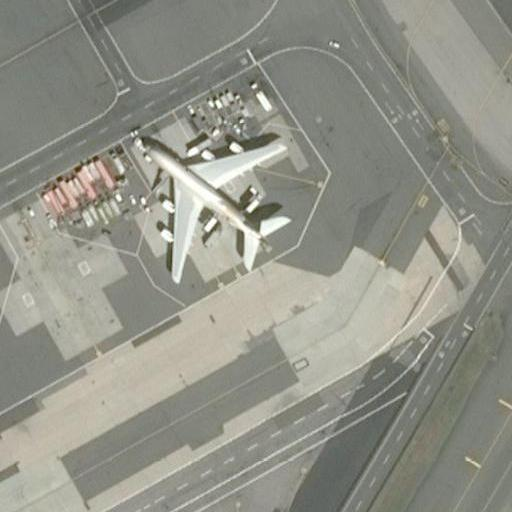Aircraft: (135, 124, 292, 282)
